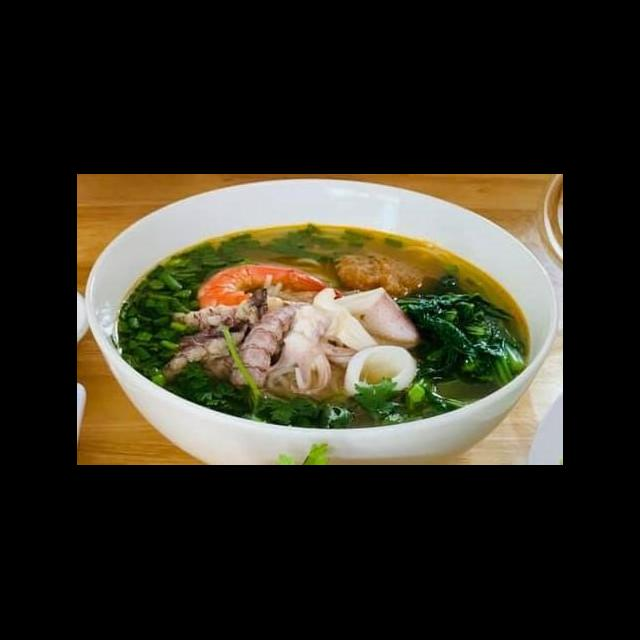muc: (321, 286, 424, 356), (340, 342, 421, 400)
tom: (192, 260, 347, 318)
tom tit: (227, 300, 308, 396), (157, 316, 259, 381), (164, 286, 273, 341)
